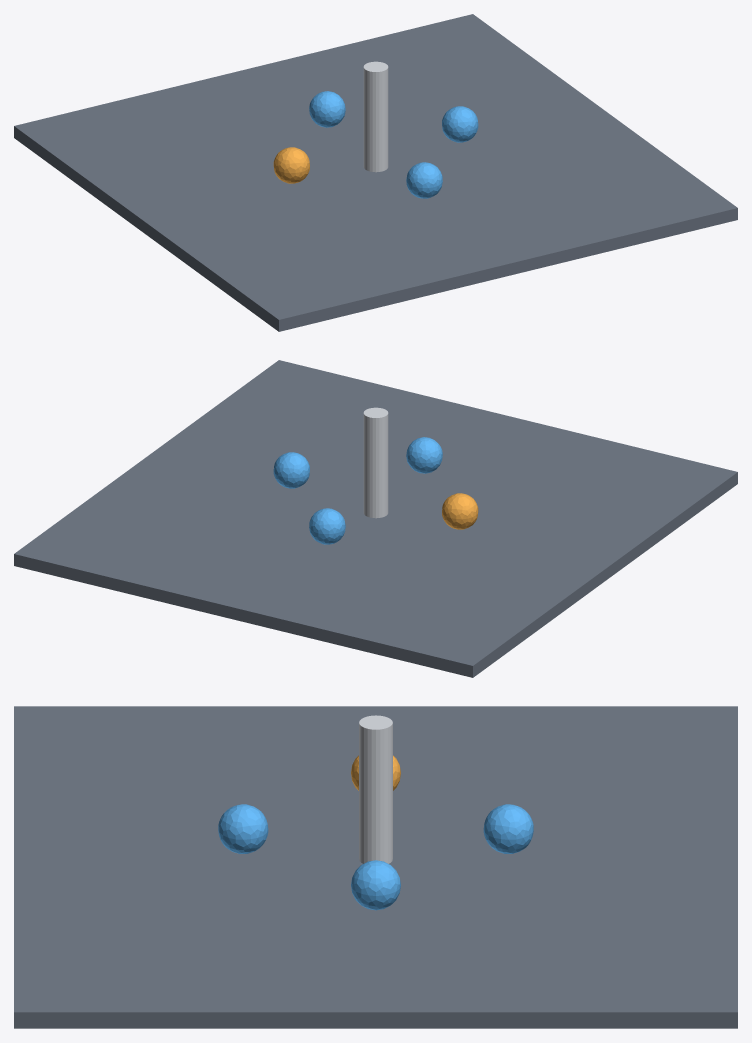
The model's file is ConstraintPoint.glb.
3 views of the same model, one above another, from view 1: azimuth 30°, elevation 25°; view 2: azimuth 150°, elevation 25°; view 3: azimuth 270°, elevation 25° (orthographic). The views are drawn at different scales.
Parts seen in each view (by area): view 1: Ground.001, PointPost.001, PointSphereA.001, PointSphereB.005, PointSphereB.003, PointSphereB.004; view 2: Ground.001, PointPost.001, PointSphereA.001, PointSphereB.004, PointSphereB.003, PointSphereB.005; view 3: Ground.001, PointPost.001, PointSphereB.004, PointSphereB.005, PointSphereB.003.
Boxes of the visible parts, bbox=[...] form: Ground.001: bbox=[14, 14, 737, 331]; PointPost.001: bbox=[363, 61, 388, 172]; PointSphereA.001: bbox=[273, 147, 309, 183]; PointSphereB.005: bbox=[406, 162, 442, 198]; PointSphereB.003: bbox=[442, 106, 478, 142]; PointSphereB.004: bbox=[309, 91, 345, 127]; Ground.001: bbox=[14, 360, 737, 677]; PointPost.001: bbox=[363, 407, 388, 518]; PointSphereA.001: bbox=[442, 493, 478, 529]; PointSphereB.004: bbox=[309, 508, 345, 544]; PointSphereB.003: bbox=[273, 452, 309, 488]; PointSphereB.005: bbox=[406, 437, 442, 473]; Ground.001: bbox=[14, 706, 737, 1028]; PointPost.001: bbox=[359, 715, 392, 863]; PointSphereB.004: bbox=[483, 804, 533, 853]; PointSphereB.005: bbox=[218, 804, 268, 853]; PointSphereB.003: bbox=[351, 860, 400, 910].
Size of the model in its own units: 12 by 2.8 by 12.
